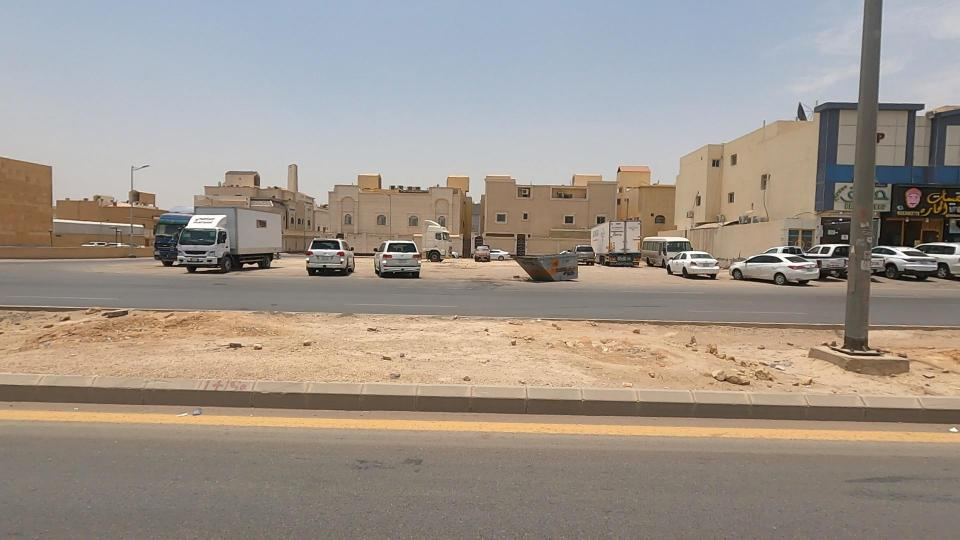CLUTTER_SIDEWALK: (301, 253, 906, 460), (0, 253, 456, 442)
